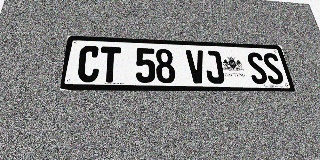5: (136, 48, 156, 83)
8: (155, 48, 176, 83)
C: (76, 45, 101, 82)
J: (203, 50, 225, 84)
S: (245, 52, 269, 84), (261, 53, 285, 84)
T: (99, 46, 121, 83)
V: (185, 50, 207, 83)
